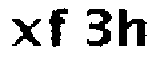3: (82, 7, 112, 48)
f: (47, 6, 71, 51)
h: (116, 6, 151, 49)
x: (9, 16, 44, 48)
